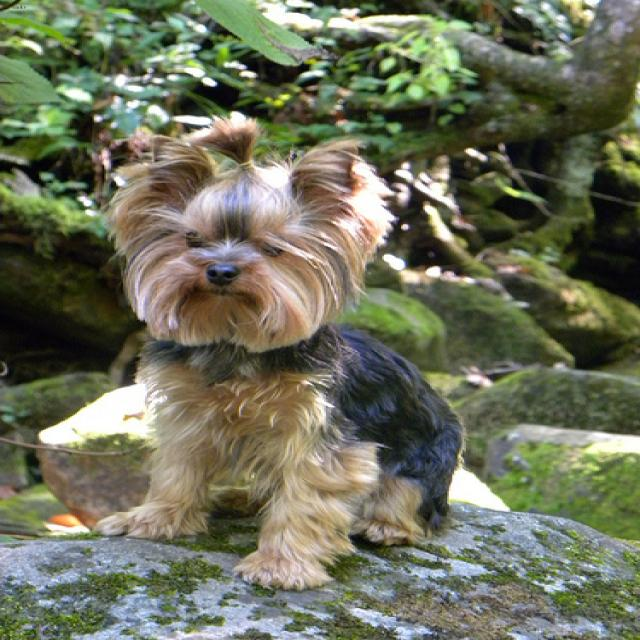dog-yorkshire_terrier: (68, 101, 471, 609)
